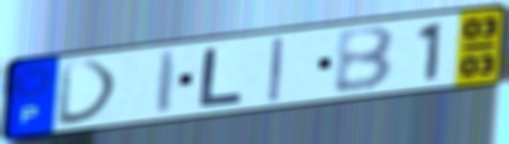1: (414, 19, 449, 83)
B: (332, 24, 398, 96)
D: (55, 58, 122, 129)
I: (153, 47, 182, 117), (266, 35, 287, 104)
L: (195, 46, 247, 109)
